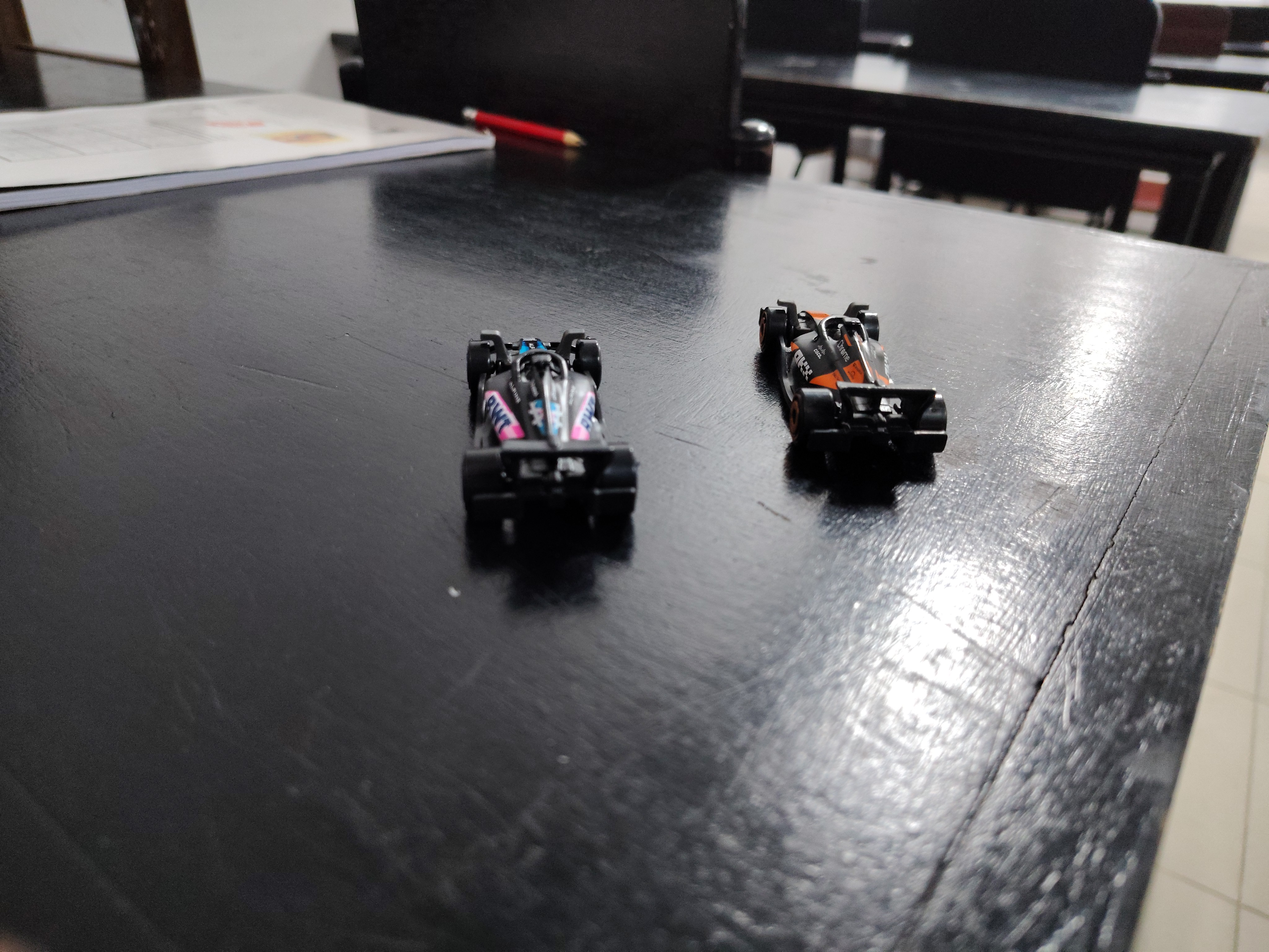Alpine A524: (438, 277, 655, 561)
McLaren MCL40: (694, 246, 1005, 508)
